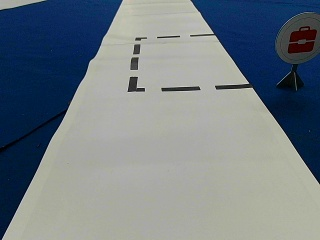company: (275, 11, 319, 62)
